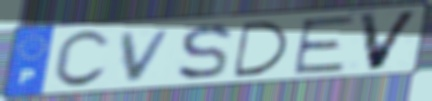C: (50, 28, 113, 91)
D: (232, 19, 292, 79)
E: (290, 14, 359, 76)
S: (175, 21, 235, 82)
V: (355, 9, 423, 72), (118, 27, 177, 84)
